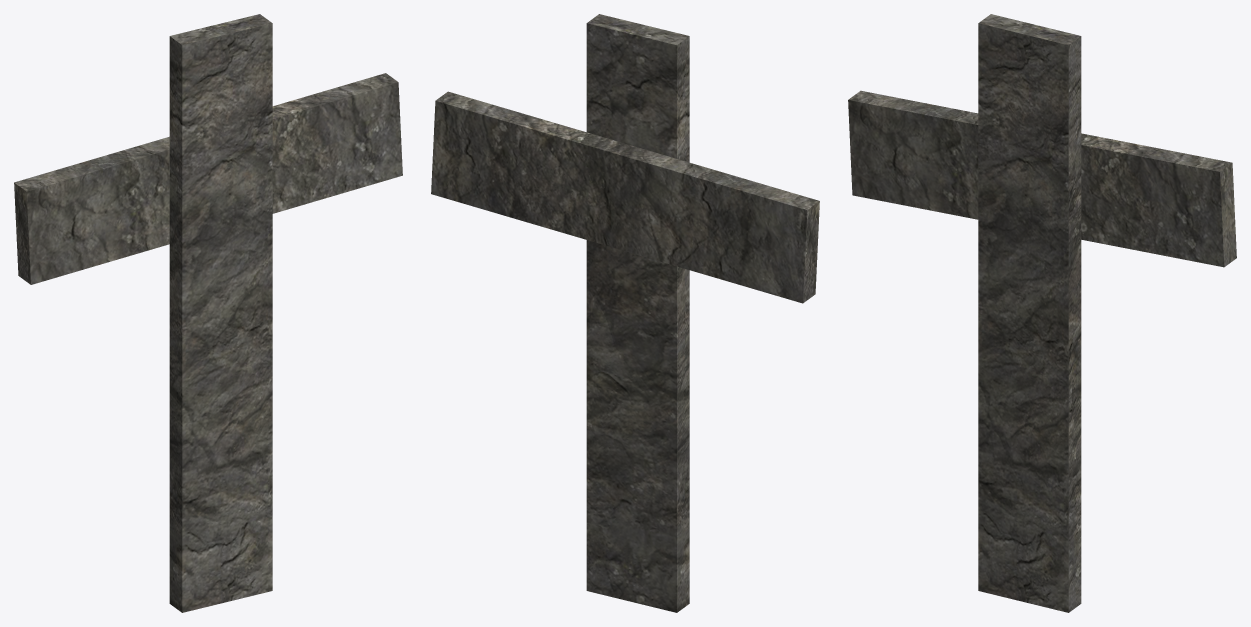
The model's file is Gravestones_Cross_Wood_01.fbx.
3 renders of one model, left to right at view 1: azimuth 30°, elevation 25°; view 2: azimuth 150°, elevation 25°; view 3: azimuth 330°, elevation 25°, orthographic.
Parts seen in each view (by area): view 1: polySurface47; view 2: polySurface47; view 3: polySurface47.
Part boxes in pixels (box(x1,y1,x2,y2)): polySurface47: box(14, 14, 402, 612); polySurface47: box(431, 14, 819, 612); polySurface47: box(848, 14, 1236, 612).
Size of the model in its own units: 0.645 by 0.9301 by 0.075.
